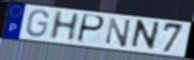7: (162, 21, 185, 54)
G: (25, 9, 51, 38)
H: (48, 10, 82, 42)
N: (128, 19, 162, 52), (104, 17, 133, 49)
P: (75, 13, 106, 45)
